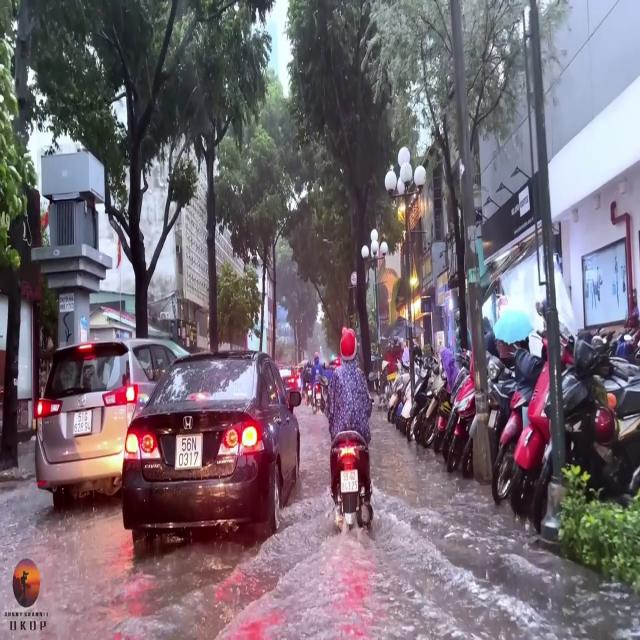bien_trang: (176, 430, 204, 473), (73, 410, 95, 440), (339, 471, 361, 495)
